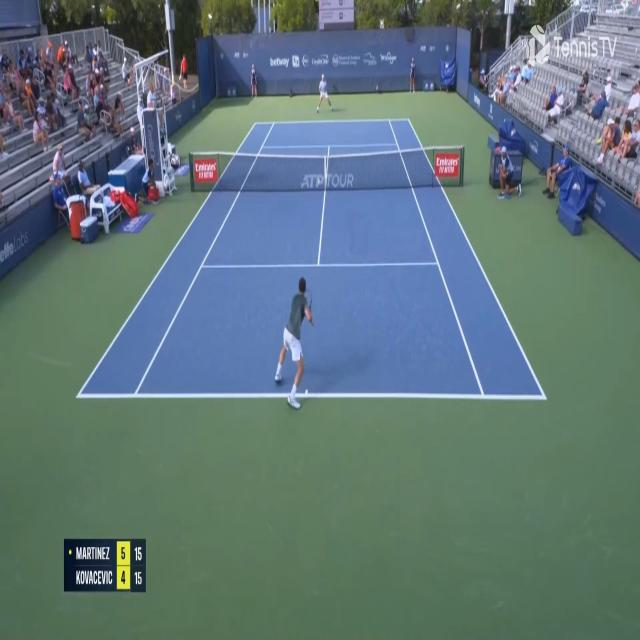tennis-player: (274, 273, 317, 413), (315, 72, 334, 115)
